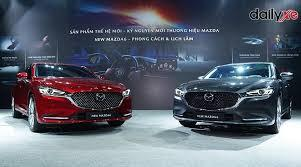mazda: (89, 91, 111, 105), (201, 92, 217, 103)
